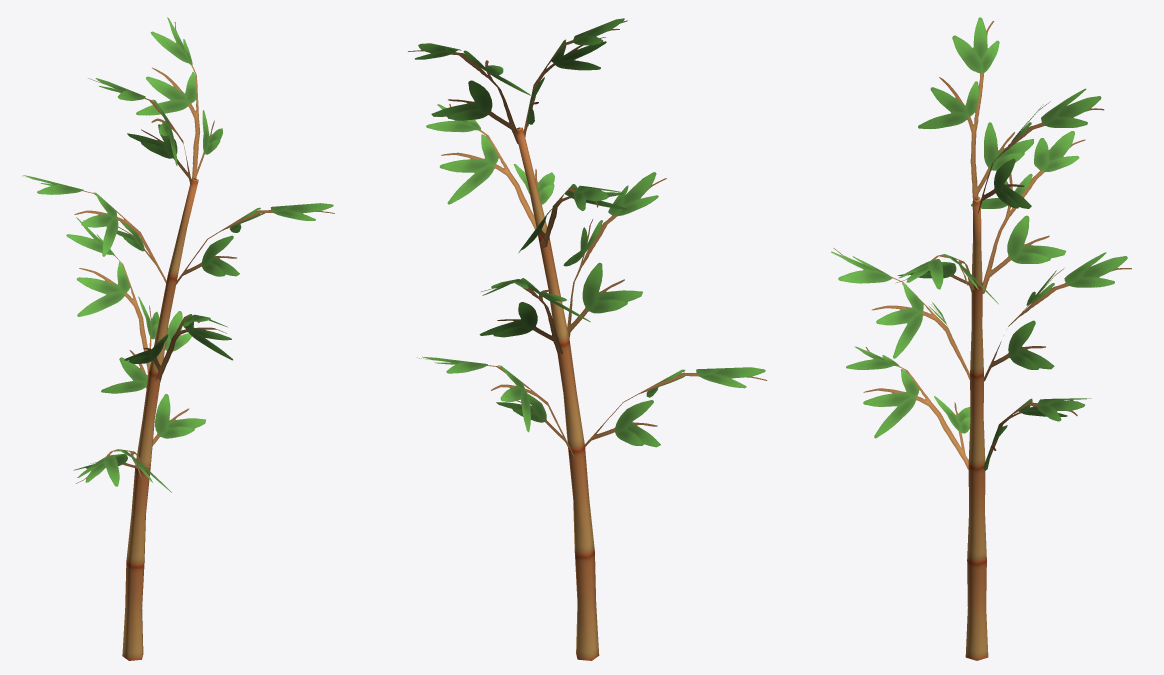
Rendered from Ctn_bamboo_01_v02.FBX.
3 renders of one model, left to right at view 1: azimuth 30°, elevation 25°; view 2: azimuth 150°, elevation 25°; view 3: azimuth 270°, elevation 25°, orthographic. The views are drawn at different scales.
Parts seen in each view (by area): view 1: Ctn_bamboo_01_v02; view 2: Ctn_bamboo_01_v02; view 3: Ctn_bamboo_01_v02.
Part boxes in pixels (box(x1,y1,x2,y2)): Ctn_bamboo_01_v02: box(22, 17, 334, 660); Ctn_bamboo_01_v02: box(408, 18, 767, 660); Ctn_bamboo_01_v02: box(831, 17, 1131, 660).
Size of the model in its own units: 84.78 by 147 by 73.3.
